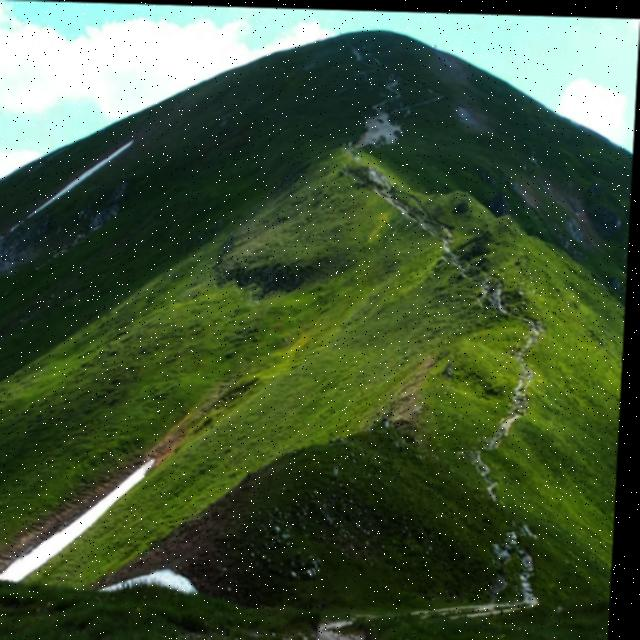Kopa Kondracka: (91, 3, 622, 146)
